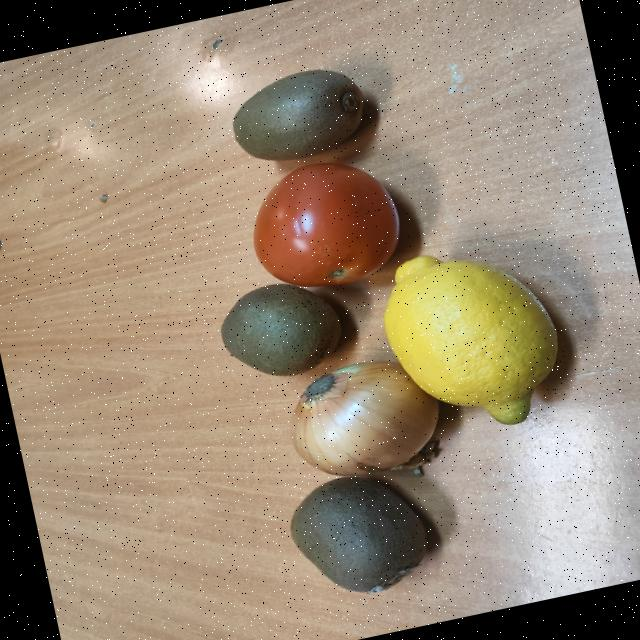tomato: (253, 161, 399, 286)
